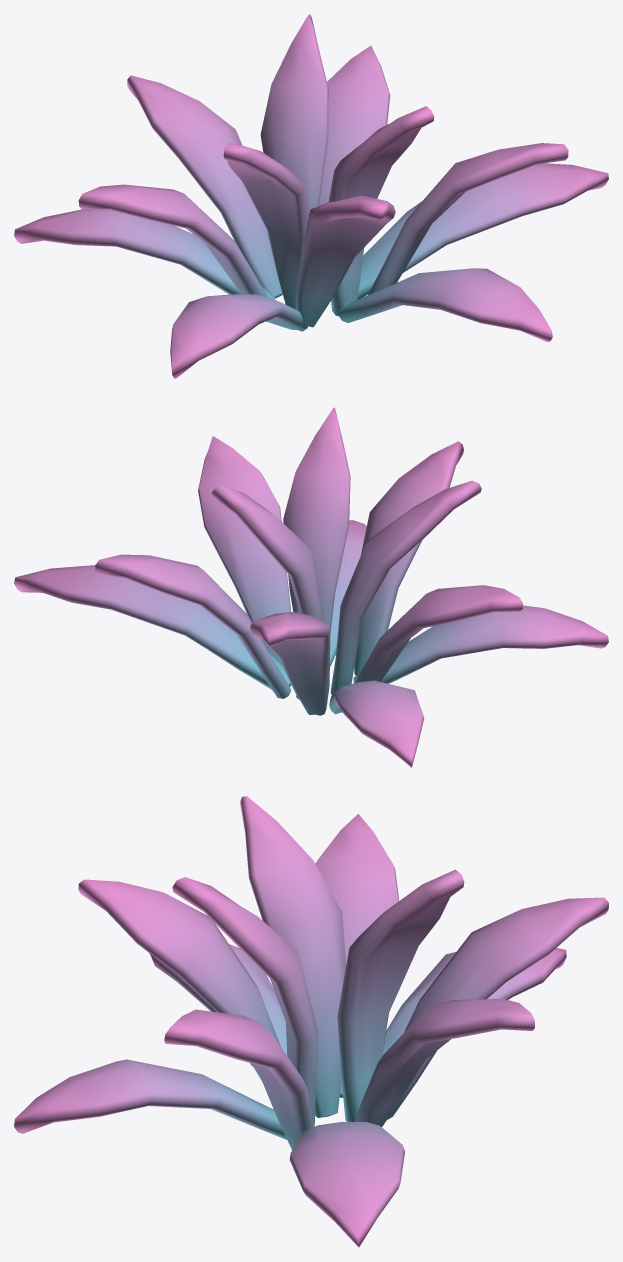
Rendered from pequeno_coral04.fbx.
3 renders of one model, top to bottom at view 1: azimuth 30°, elevation 25°; view 2: azimuth 150°, elevation 25°; view 3: azimuth 270°, elevation 25°, orthographic. The views are drawn at different scales.
Visible parts, largest first — view 1: Plant.013; view 2: Plant.013; view 3: Plant.013.
Boxes of the visible parts, x1,y1,x2,y2 form: Plant.013: [14, 14, 608, 378]; Plant.013: [14, 407, 608, 767]; Plant.013: [14, 796, 608, 1247].
Size of the model in its own units: 1185 by 530 by 993.
Materials: 1 (1 with a texture image).
